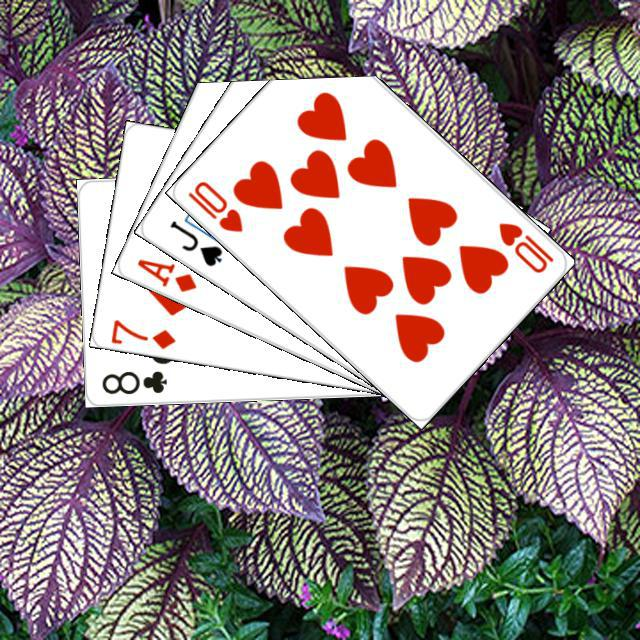10h: (182, 176, 245, 234), (493, 217, 556, 275)
7d: (106, 315, 177, 351)
8c: (97, 365, 169, 396)
Ad: (131, 253, 199, 294)
Js: (165, 215, 225, 268)
